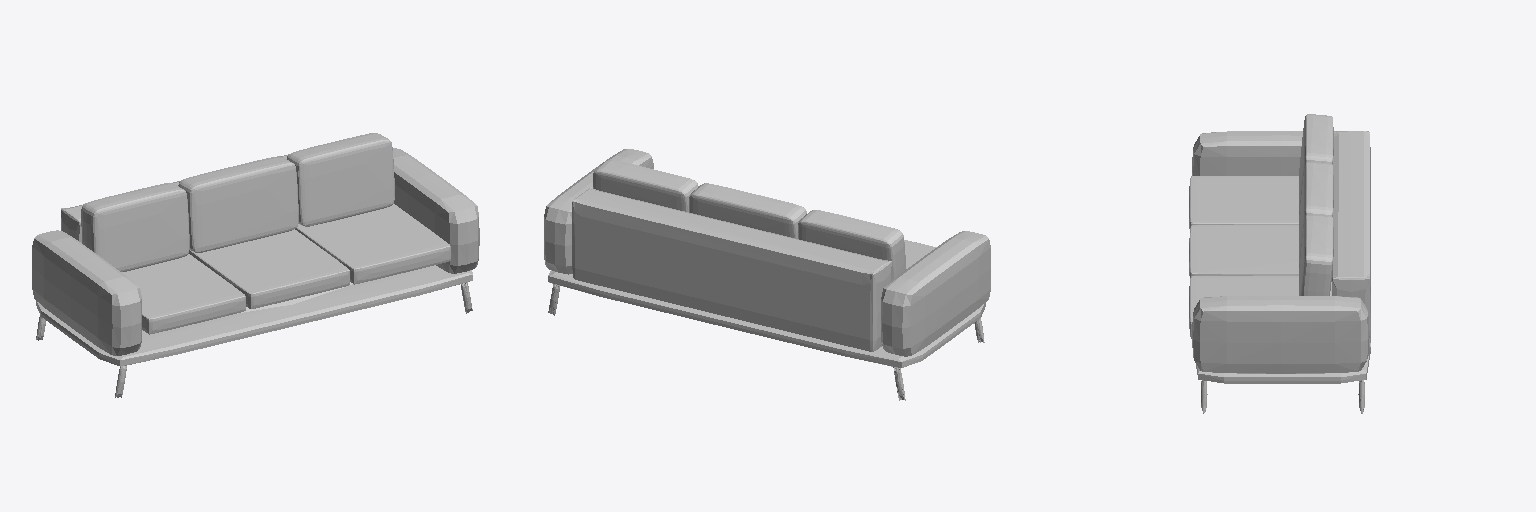
The model's file is sofa_2K.obj.
3 renders of one model, left to right at view 1: azimuth 30°, elevation 25°; view 2: azimuth 150°, elevation 25°; view 3: azimuth 270°, elevation 25°, orthographic.
Visible parts, largest first — view 1: sofa_2K; view 2: sofa_2K; view 3: sofa_2K.
Boxes of the visible parts, box(x1,y1,x2,y2) form: sofa_2K: box(32, 133, 479, 397); sofa_2K: box(544, 149, 990, 400); sofa_2K: box(1189, 114, 1370, 413).
Bounding box in the file's own units: 2 × 0.7451 × 0.8506.